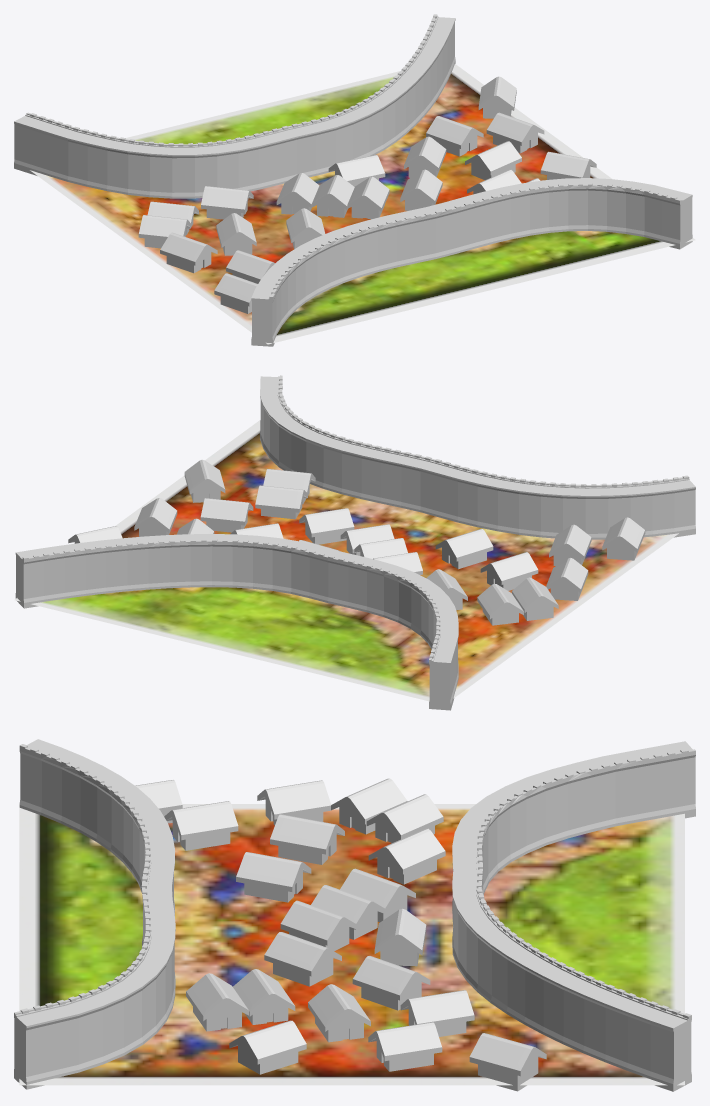
The model's file is tile17.fbx.
3 views of the same model, one above another, from view 1: azimuth 30°, elevation 25°; view 2: azimuth 150°, elevation 25°; view 3: azimuth 270°, elevation 25° (orthographic). The views are drawn at different scales.
Visible parts, largest first — view 1: wallHalf.015; view 2: wallHalf.015; view 3: wallHalf.015.
Part boxes in pixels (<box>): wallHalf.015: <box>14,14,695,346</box>; wallHalf.015: <box>14,375,695,710</box>; wallHalf.015: <box>14,739,695,1091</box>.
Bounding box in the file's own units: 102 × 11.32 × 101.
